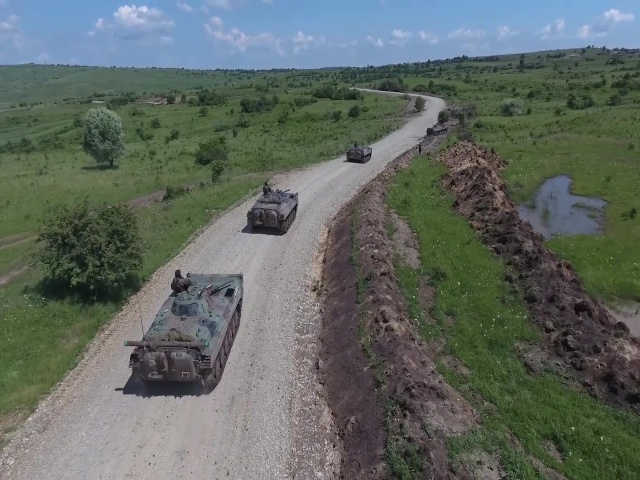vehicle: (130, 269, 245, 396), (247, 187, 298, 234), (344, 144, 372, 164), (425, 122, 448, 137)
